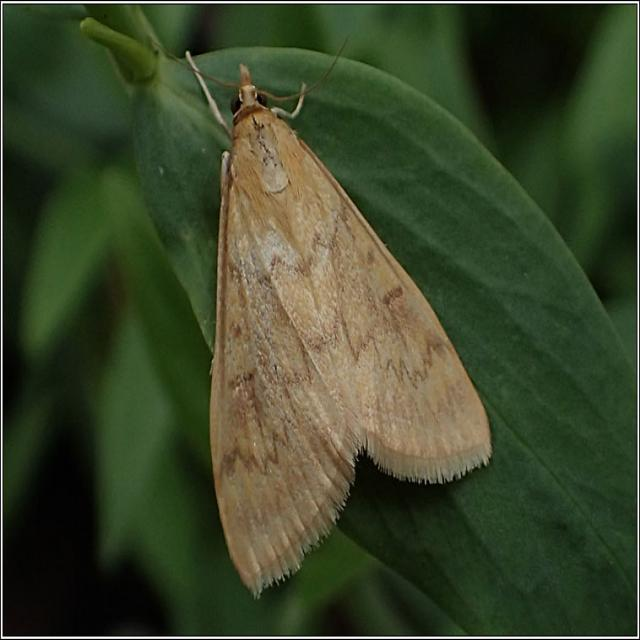cornborer-Adult-: (175, 29, 501, 608)
